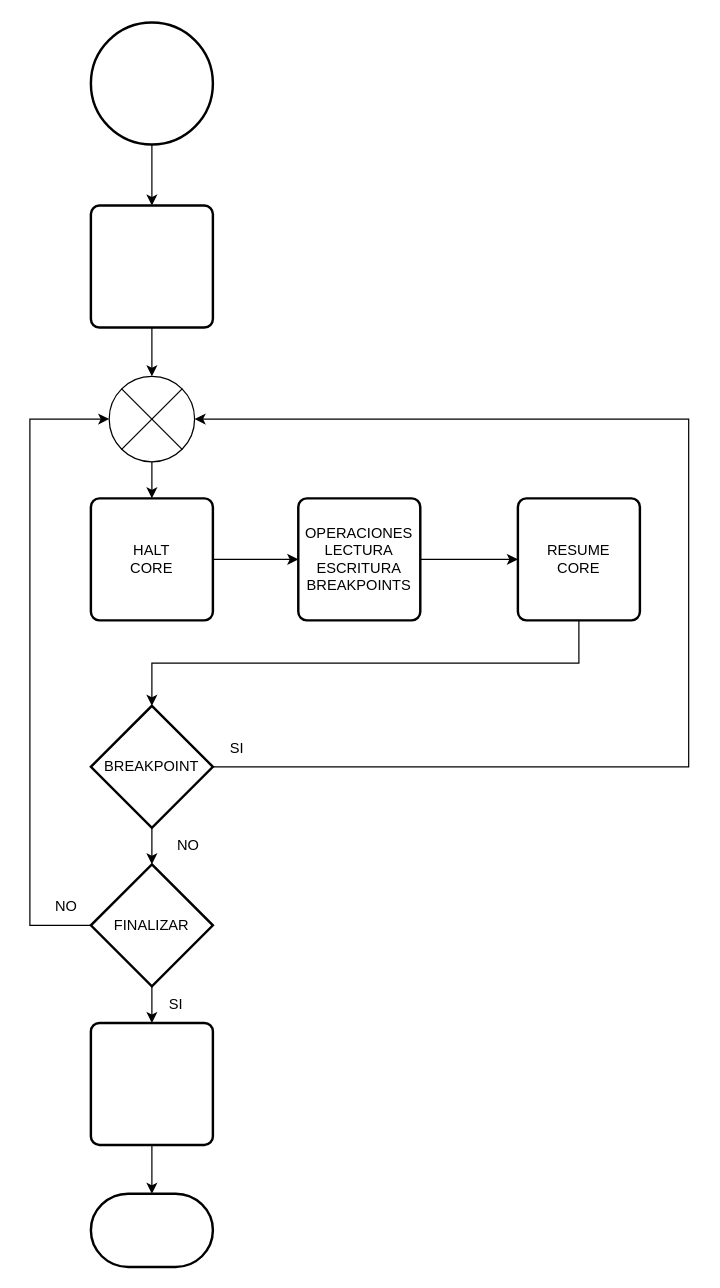
The diagram is 720 pixels wide and 1288 high, and some of its shapes have lost their labels. The box of each missing label's shape, as (x1, y1, x2, y2) in pixels:
CONEXIÓN CORESIGHT: (89, 204, 214, 328)
DESCONEXIÓN CORESIGHT: (89, 1021, 214, 1146)
